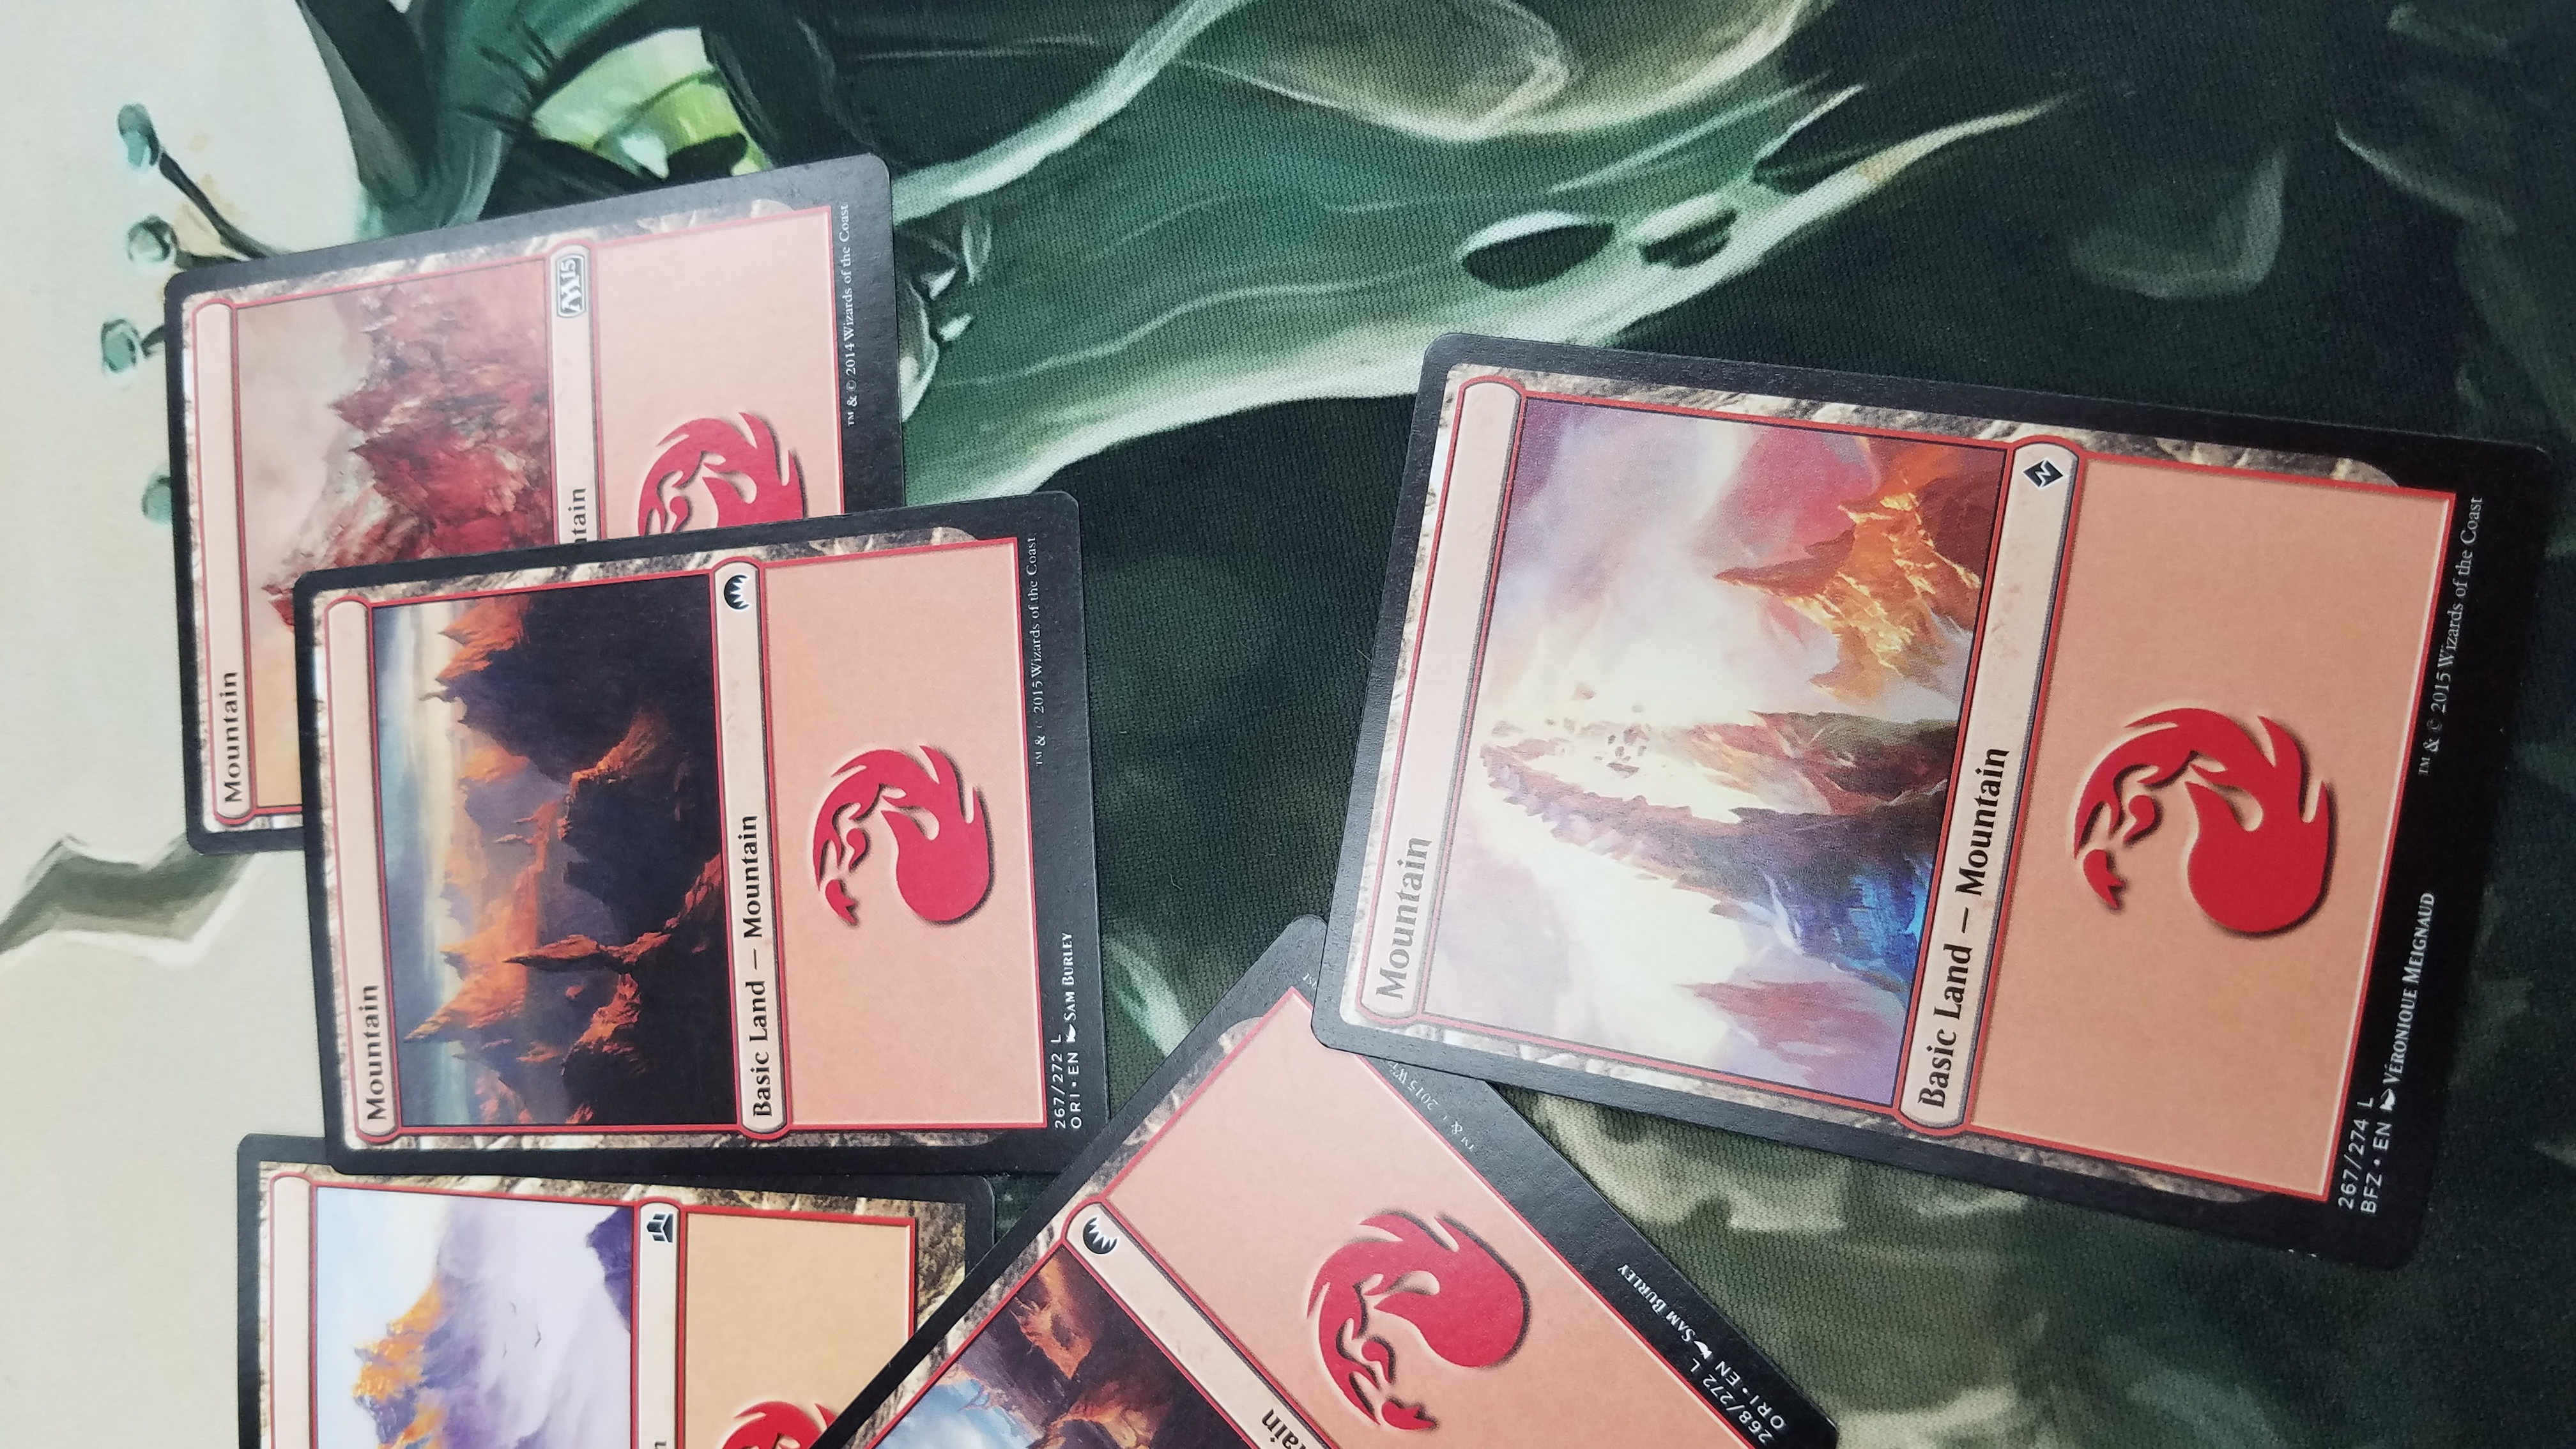Card: (1297, 327, 2572, 1288), (287, 483, 1131, 1180), (142, 142, 911, 858)
